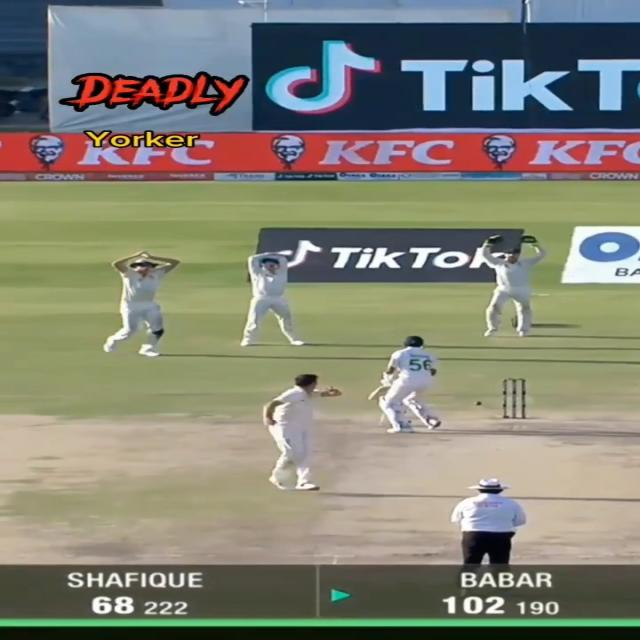ball: (474, 400, 482, 406)
stump: (501, 378, 527, 420)
